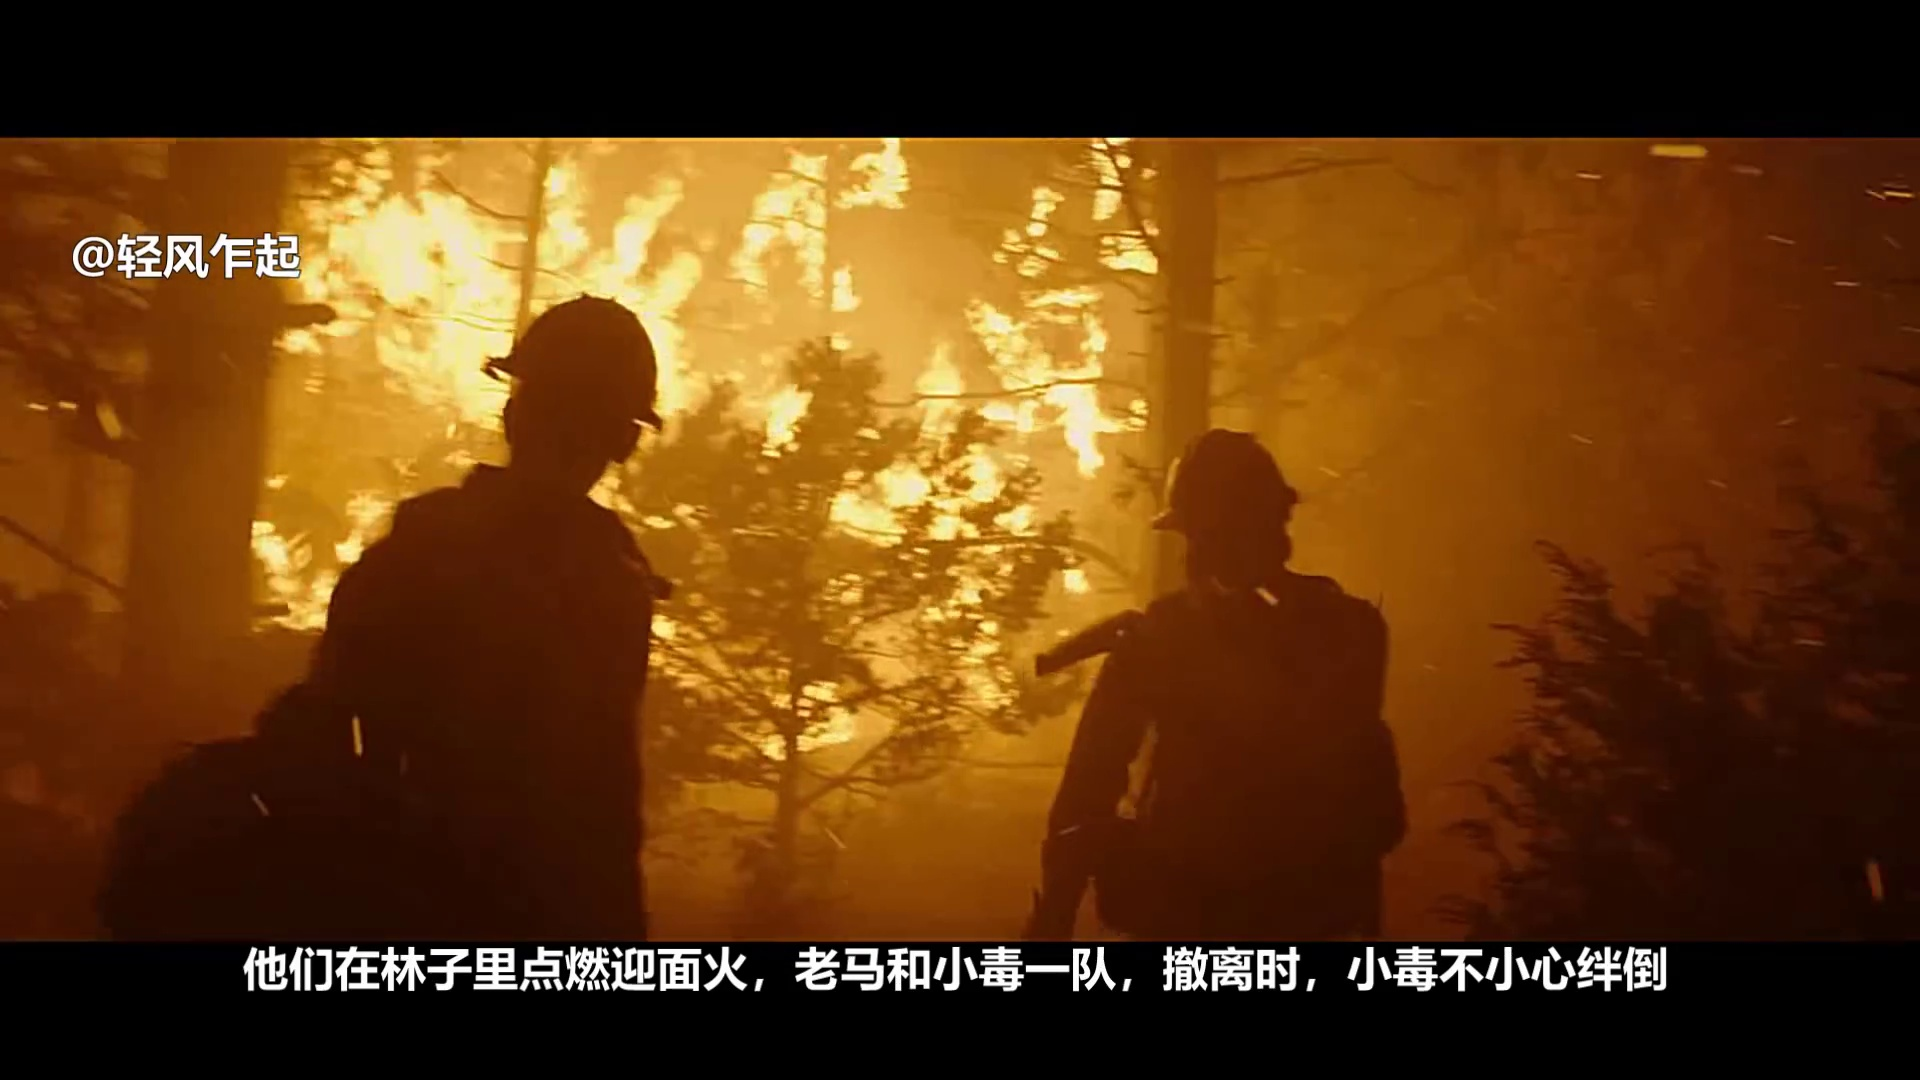fire: (302, 187, 699, 448), (967, 281, 1116, 615), (767, 364, 965, 535), (651, 615, 858, 749), (745, 148, 906, 319), (1002, 148, 1163, 277), (251, 512, 384, 634)
